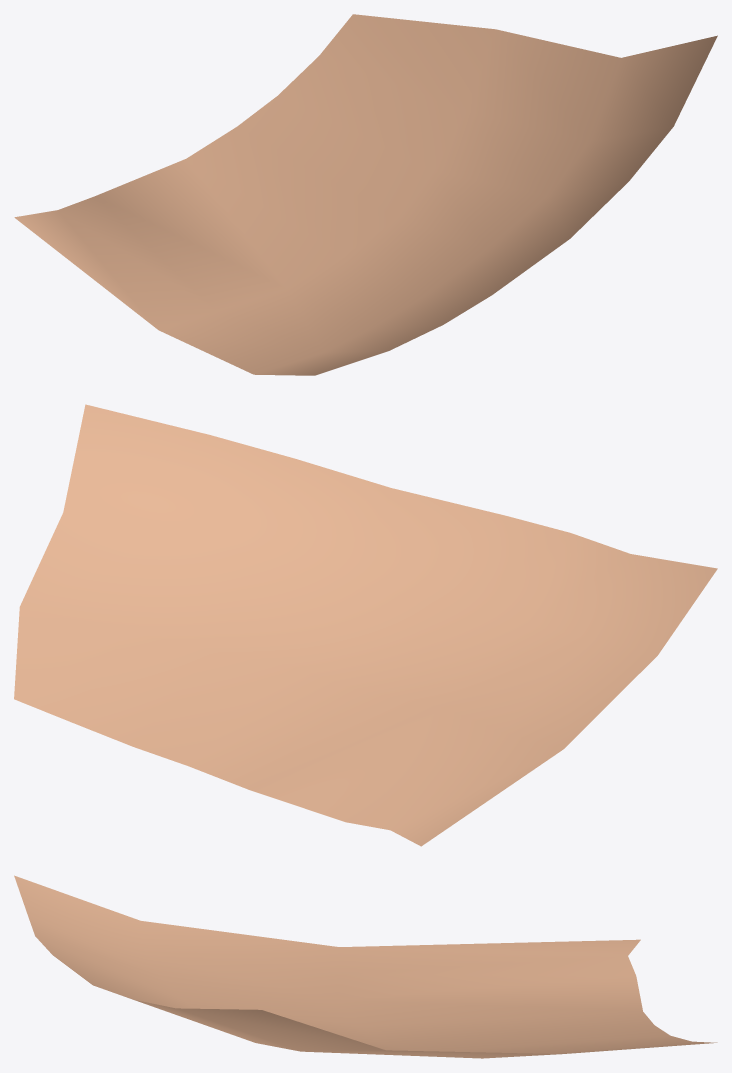
Rendered from submental-triangle-l.glb.
The picture shows the model from 3 angles, top to bottom: view 1: azimuth 30°, elevation 25°; view 2: azimuth 150°, elevation 25°; view 3: azimuth 270°, elevation 25°; orthographic projection. The views are drawn at different scales.
Parts seen in each view (by area): view 1: Submental triangle.l; view 2: Submental triangle.l; view 3: Submental triangle.l.
Part boxes in pixels (<box>): Submental triangle.l: <box>14,14,717,375</box>; Submental triangle.l: <box>14,404,717,846</box>; Submental triangle.l: <box>14,875,717,1058</box>.
Size of the model in its own units: 0.0274 by 0.00975 by 0.0307.
